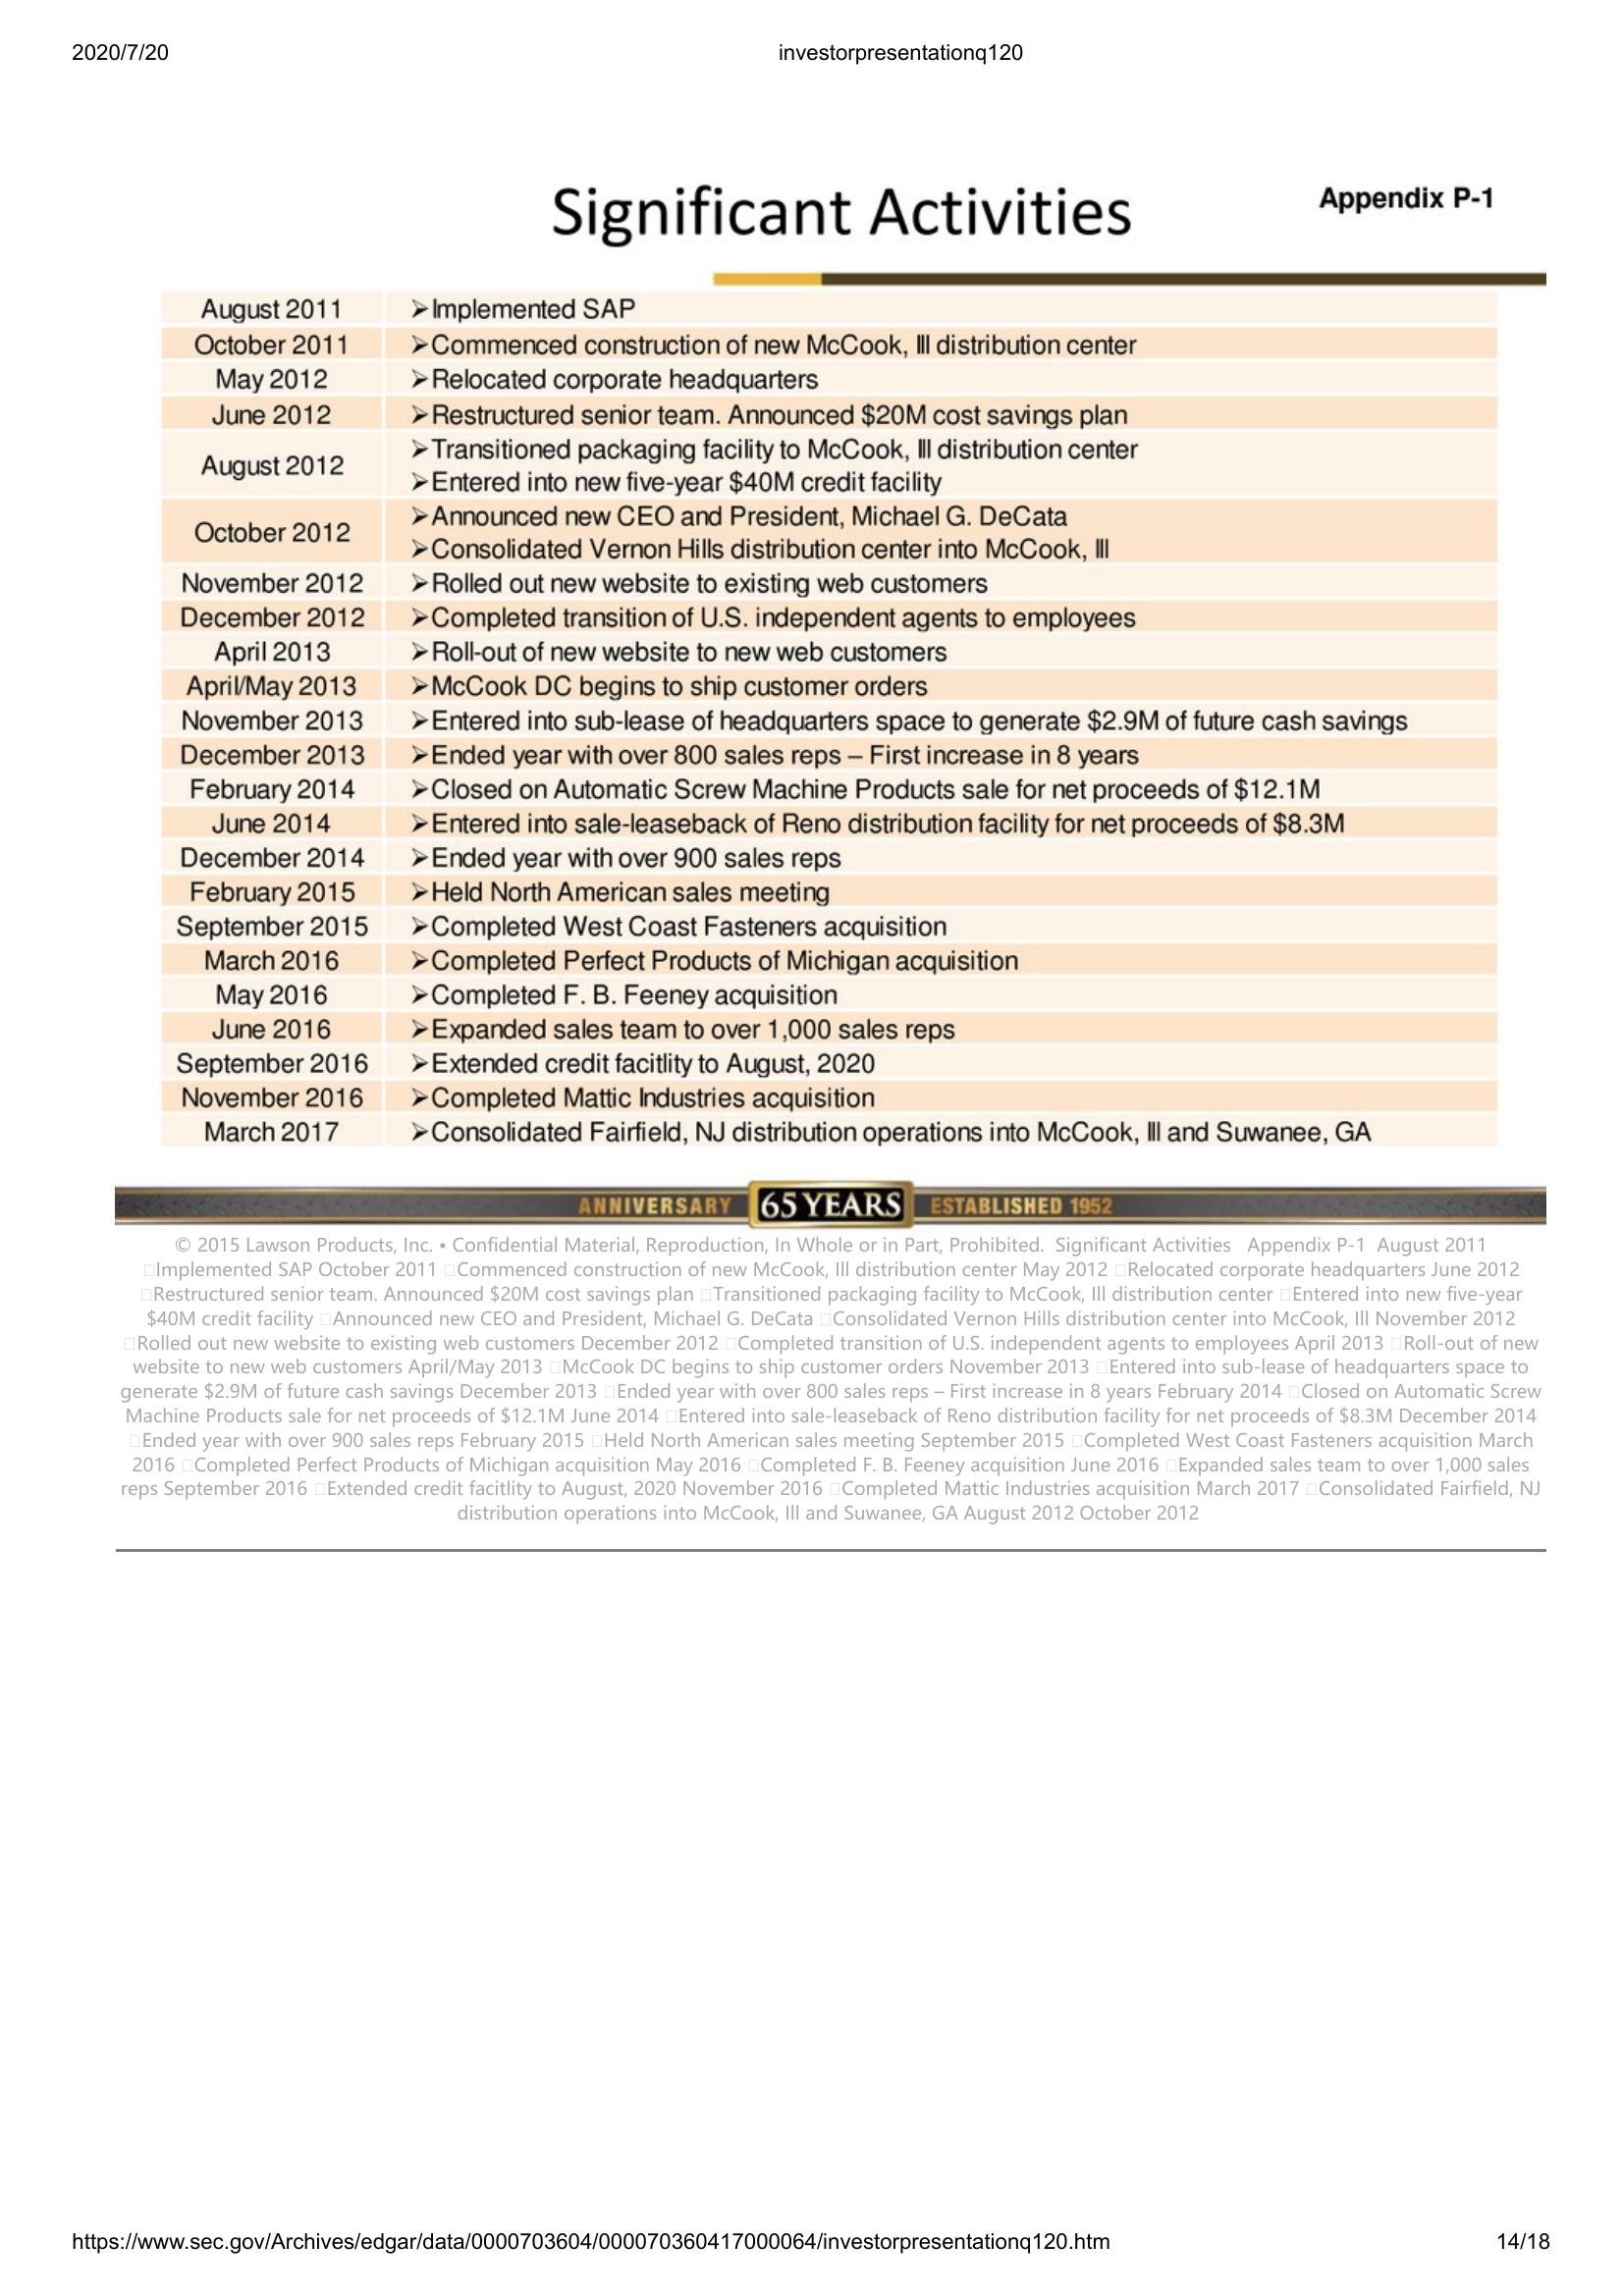table: (160, 283, 1505, 1152)
